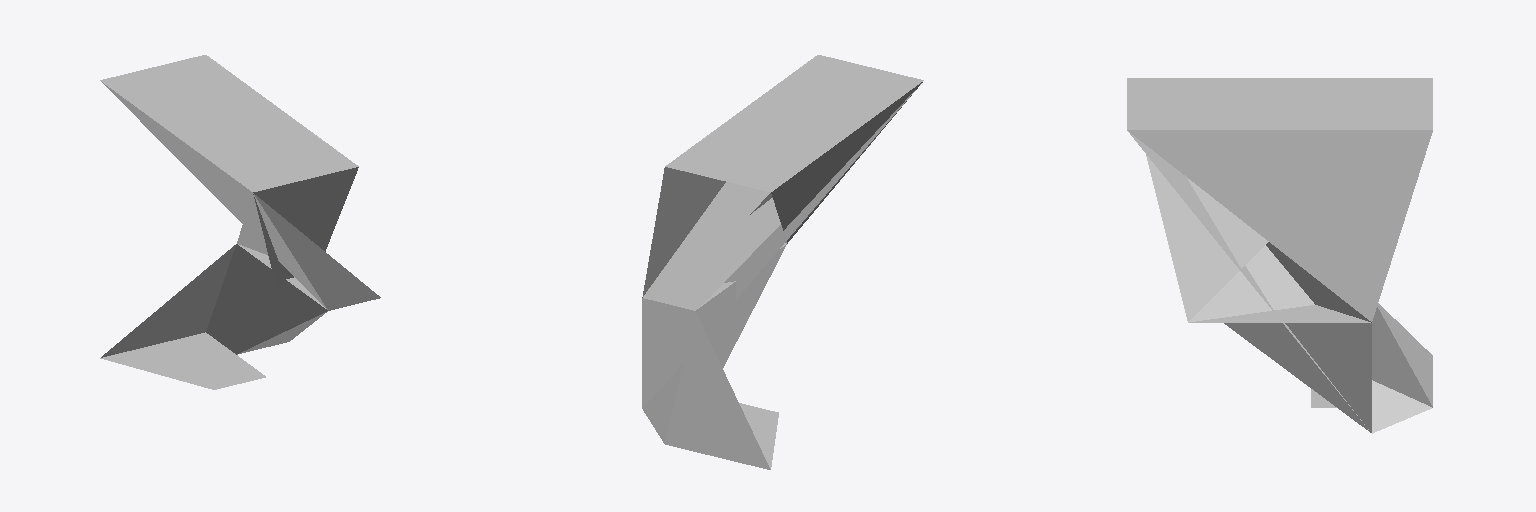
File: Med Bay Soap.obj
The picture shows the model from 3 angles: view 1: azimuth 30°, elevation 25°; view 2: azimuth 150°, elevation 25°; view 3: azimuth 270°, elevation 25°; orthographic projection.
Bounding box in the file's own units: 3 × 5 × 5.